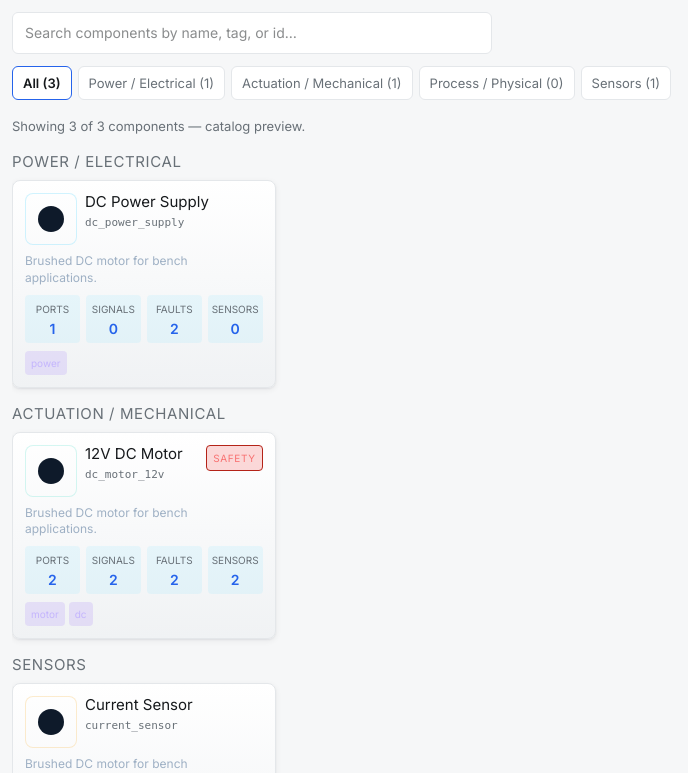
ComponentPalette › search filters components
In the search field labelled "Search components": (252, 33) [12,12,492,54], type "sensor"
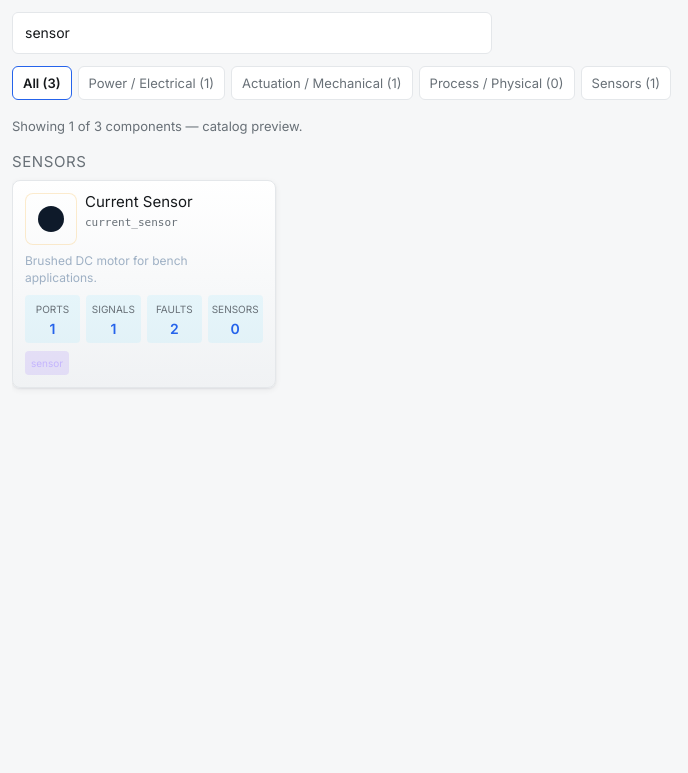
Expected: the heading "Current Sensor" is shown, [85,193,193,211]
Expected: the heading "12V DC Motor" is gone
